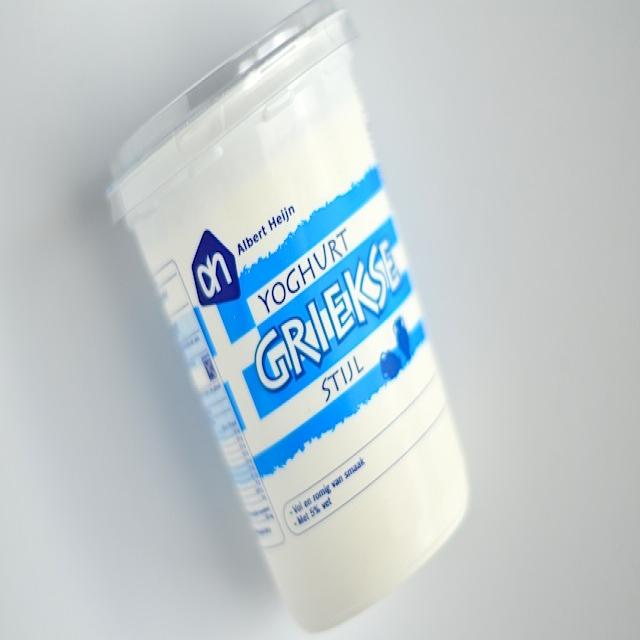yoghurt: (107, 0, 468, 636)
